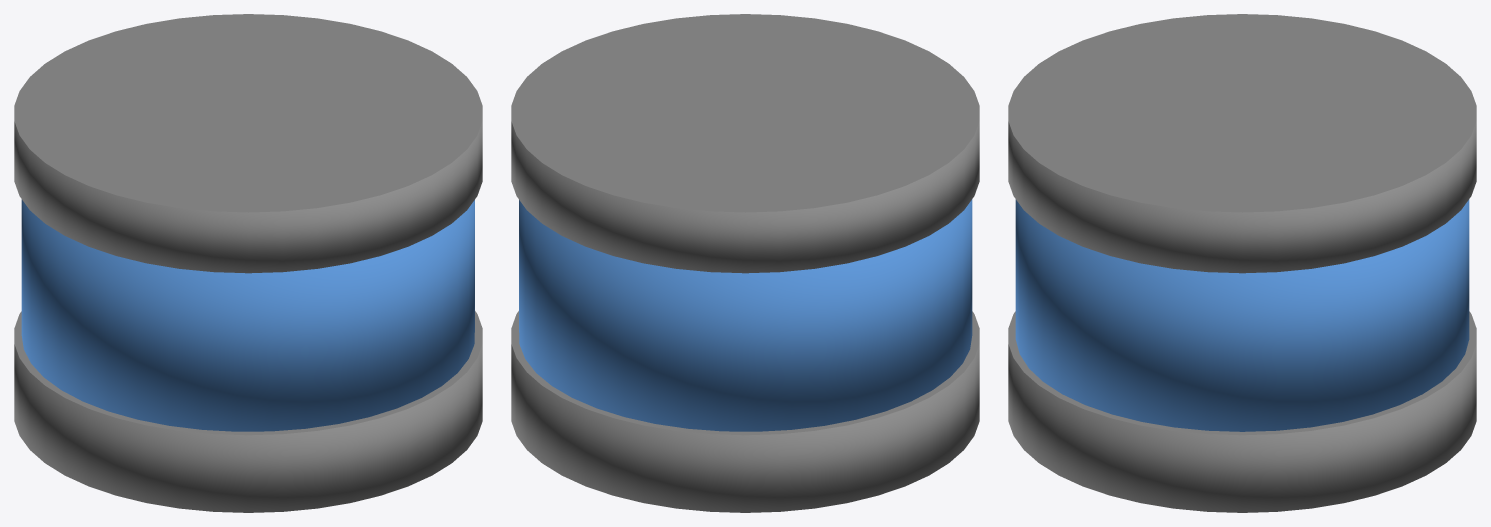
The model's file is sensor_velodyne_lidar.dae.
The picture shows the model from 3 angles, left to right: view 1: azimuth 30°, elevation 25°; view 2: azimuth 150°, elevation 25°; view 3: azimuth 270°, elevation 25°; orthographic projection.
Parts seen in each view (by area): view 1: sensor_velodyne_lidar (×2); view 2: sensor_velodyne_lidar (×2); view 3: sensor_velodyne_lidar (×2).
Boxes of the visible parts, <box> form: sensor_velodyne_lidar (×2): <box>14,14,482,512</box>; sensor_velodyne_lidar (×2): <box>511,14,979,512</box>; sensor_velodyne_lidar (×2): <box>1008,14,1476,512</box>.
Bounding box in the file's own units: 0.103 × 0.1027 × 0.0727.
